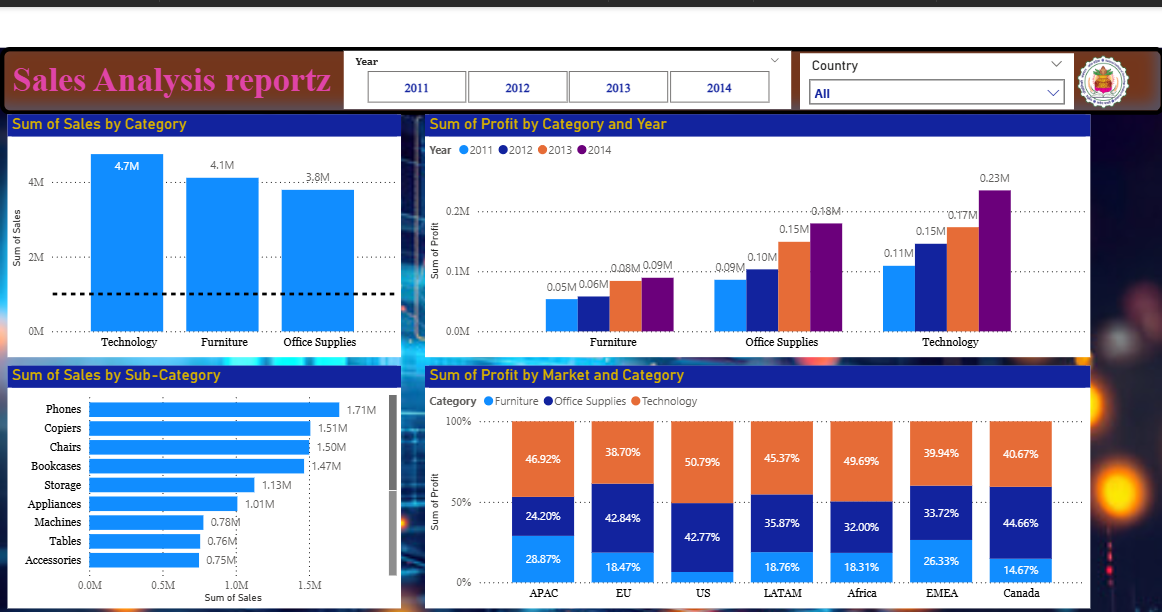

What the dashboard file says about the page in this screenshot:
{"tool":"powerbi","page":{"name":"Comparison Analysis","canvas":[1280,720],"ordinal":1},"visuals":[{"type":"textbox","box":[0,43.9,1280.3,74.1],"z":0},{"type":"image","box":[1141.7,46.7,138.6,71.4],"z":1000},{"type":"columnChart","fields":{"Y":["Sum(Orders.Sales)"],"Category":["Orders.Category"]},"box":[8.6,117.8,431.9,266.3],"z":2000},{"type":"barChart","fields":{"Category":["Orders.Sub-Category"],"Y":["Sum(Orders.Sales)"]},"box":[8.6,393.9,431.9,266.3],"z":3000},{"type":"clusteredColumnChart","fields":{"Category":["Orders.Category"],"Y":["Sum(Orders.Profit)"],"Series":["Orders.Order Date.Variation.Date Hierarchy.Year"]},"box":[466.3,117.8,730.1,266.3],"z":4000},{"type":"hundredPercentStackedColumnChart","fields":{"Category":["Orders.Market"],"Y":["Sum(Orders.Profit)"],"Series":["Orders.Category"]},"box":[466,394,730,266],"z":5000},{"type":"slicer","fields":{"Values":["Orders.Country"]},"box":[878.5,50.3,300.6,61.4],"z":6000},{"type":"slicer","fields":{"Values":["Orders.Order Date.Variation.Date Hierarchy.Year"]},"box":[376.7,47.9,490.8,63.8],"z":7000}]}

Visuals, with their boxes on the page's 1280x720 design canvas (x1, y1, x2, y2). These are canvas units, not pixel positions in the 1162x612 screenshot, which may show the page scaled, cropped or inside an application window:
textbox: rect(0, 44, 1280, 118)
image: rect(1142, 47, 1280, 118)
columnChart - Sum(Orders.Sales) x Orders.Category: rect(9, 118, 440, 384)
barChart - Orders.Sub-Category x Sum(Orders.Sales): rect(9, 394, 440, 660)
clusteredColumnChart - Orders.Category x Sum(Orders.Profit): rect(466, 118, 1196, 384)
hundredPercentStackedColumnChart - Orders.Market x Sum(Orders.Profit): rect(466, 394, 1196, 660)
slicer - Orders.Country: rect(878, 50, 1179, 112)
slicer - Orders.Order Date.Variation.Date Hierarchy.Year: rect(377, 48, 868, 112)
